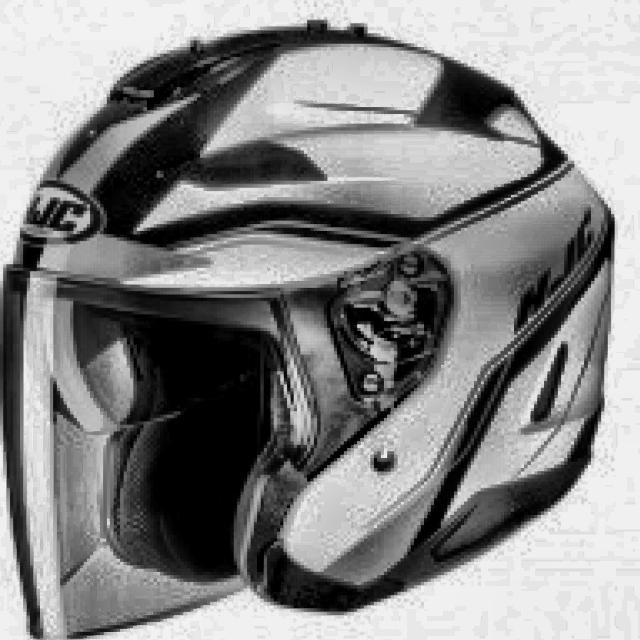Helmet: (0, 18, 619, 640)
